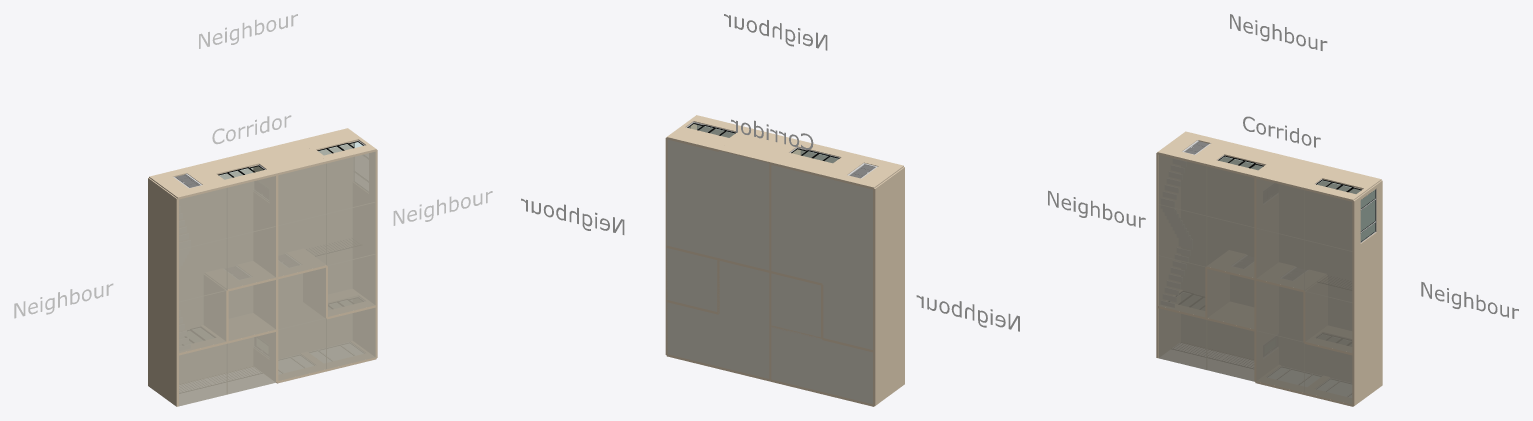
File: 4_nienzhen.gltf
3 renders of one model, left to right at view 1: azimuth 30°, elevation 25°; view 2: azimuth 150°, elevation 25°; view 3: azimuth 330°, elevation 25°, orthographic. The views are drawn at different scales.
Parts seen in each view (by area): view 1: ceiling (×16), SIP (×6), wall (×2); view 2: floor (×16), SIP (×6), wall (×2); view 3: ceiling (×16), wall (×4), SIP (×4), floor, Glass.
Boxes of the visible parts, left/top/right/bottom form: ceiling (×16): left=179, top=151, right=375, bottom=406; SIP (×6): left=148, top=128, right=376, bottom=354; wall (×2): left=148, top=140, right=326, bottom=406; floor (×16): left=666, top=139, right=872, bottom=404; SIP (×6): left=666, top=115, right=904, bottom=351; wall (×2): left=718, top=127, right=904, bottom=405; ceiling (×16): left=1158, top=154, right=1352, bottom=404; wall (×4): left=1255, top=155, right=1382, bottom=405; SIP (×4): left=1157, top=131, right=1382, bottom=252; floor: left=1327, top=182, right=1374, bottom=234; Glass: left=1361, top=191, right=1374, bottom=240.
Size of the model in its own units: 33.67 by 23.12 by 3.5.
